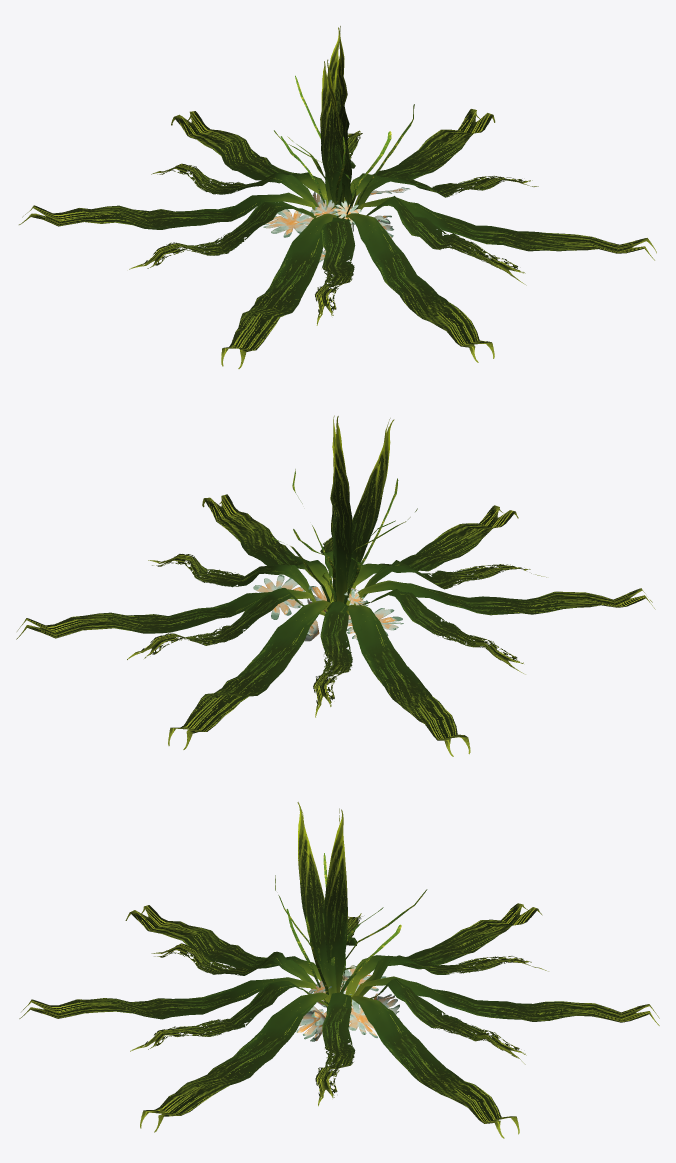
3 renders of one model, top to bottom at view 1: azimuth 30°, elevation 25°; view 2: azimuth 150°, elevation 25°; view 3: azimuth 270°, elevation 25°, orthographic.
Visible parts, largest first — view 1: aa03; view 2: aa03; view 3: aa03.
Boxes of the visible parts, x1=… form: aa03: x1=19, y1=26, x2=656, y2=368; aa03: x1=16, y1=415, x2=655, y2=756; aa03: x1=19, y1=802, x2=659, y2=1138.
Size of the model in its own units: 1196 by 530 by 1370.
